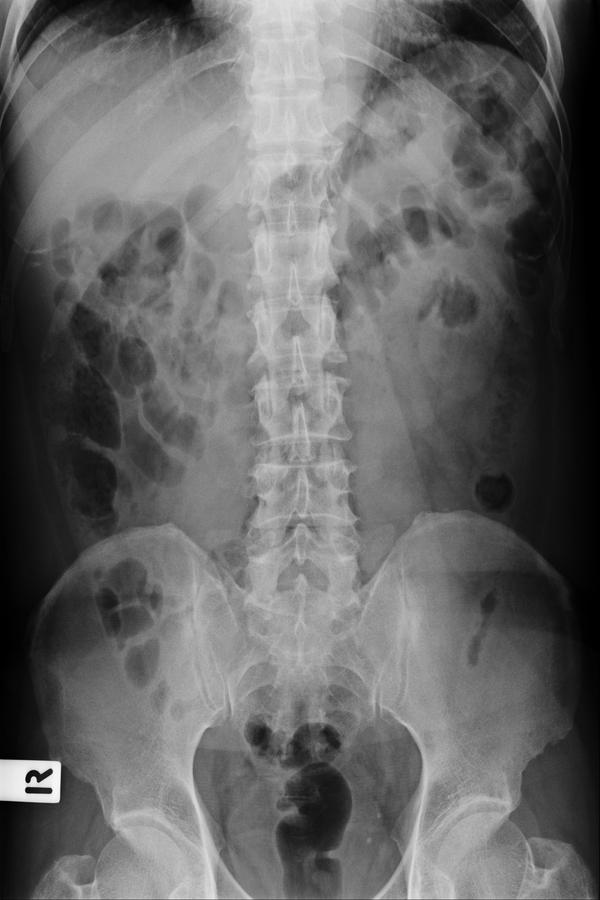lumbar scoliosis: (237, 15, 371, 622)
